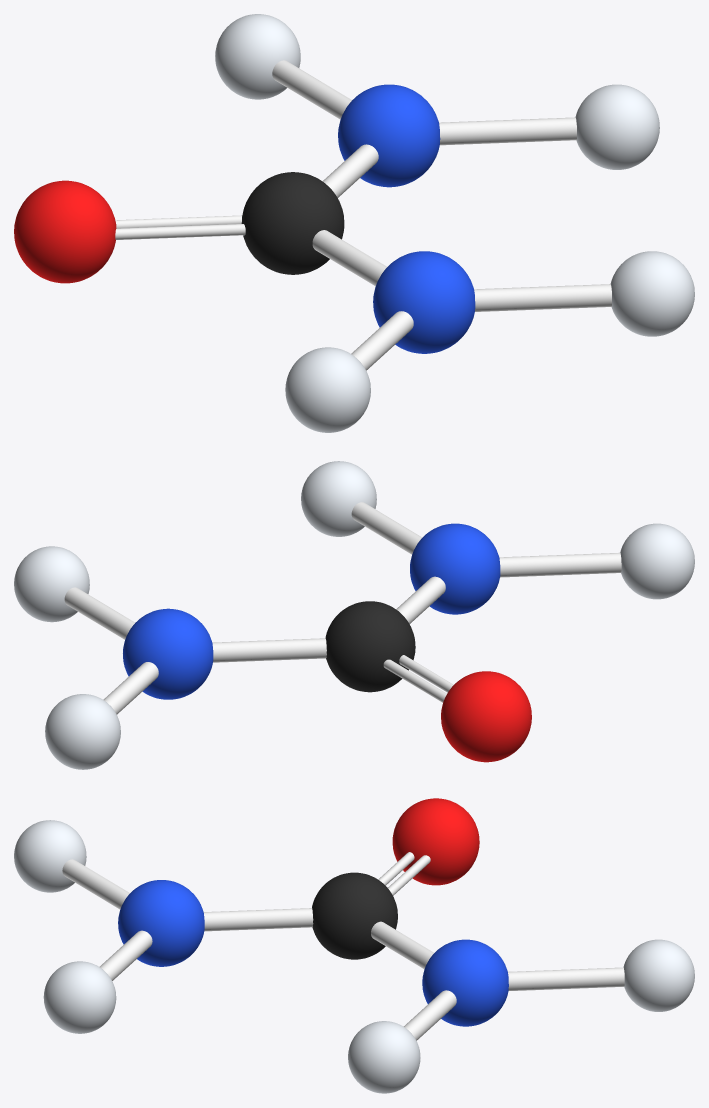
File: urea.fbx
3 renders of one model, top to bottom at view 1: azimuth 30°, elevation 25°; view 2: azimuth 150°, elevation 25°; view 3: azimuth 270°, elevation 25°, orthographic. The views are drawn at different scales.
Parts seen in each view (by area): view 1: urea; view 2: urea; view 3: urea.
Part boxes in pixels (<box>): urea: <box>14,14,694,432</box>; urea: <box>14,461,694,769</box>; urea: <box>14,798,694,1093</box>.
Bounding box in the file's own units: 244 × 36 × 281.
